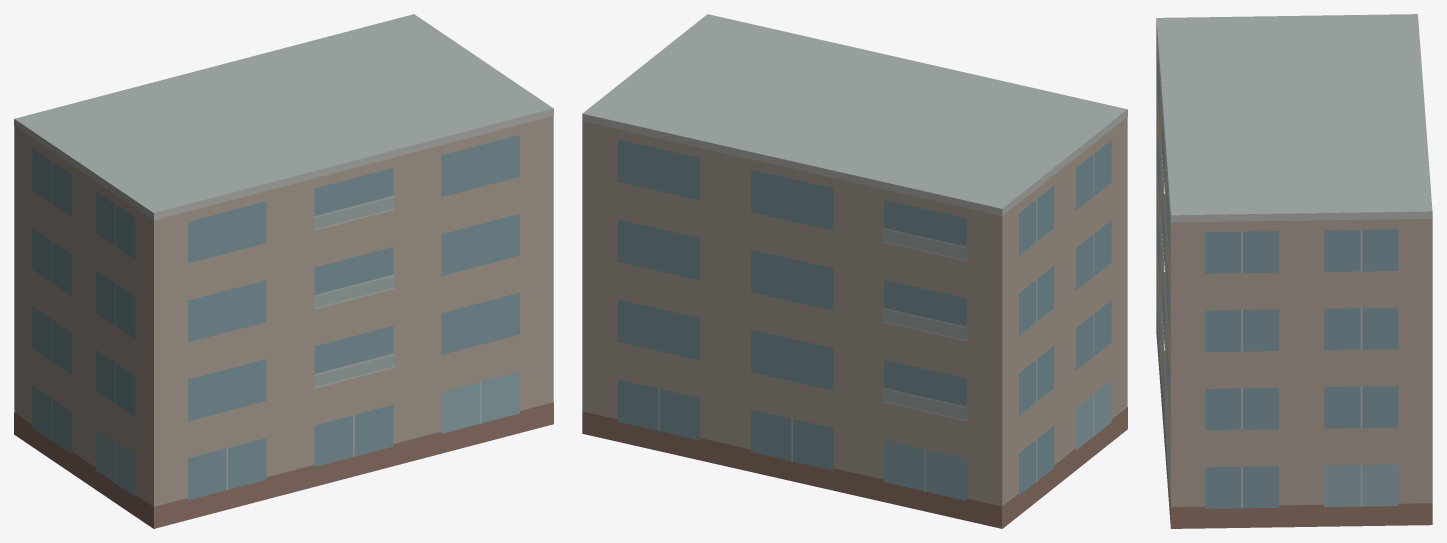
The model's file is survey-upis-32848627.glb.
3 renders of one model, left to right at view 1: azimuth 30°, elevation 25°; view 2: azimuth 150°, elevation 25°; view 3: azimuth 270°, elevation 25°, orthographic. The views are drawn at different scales.
Parts seen in each view (by area): view 1: survey-upis-32848627.tmp; view 2: survey-upis-32848627.tmp; view 3: survey-upis-32848627.tmp.
Boxes of the visible parts, x1,y1,x2,y2 form: survey-upis-32848627.tmp: (14,14,553,528); survey-upis-32848627.tmp: (582,14,1127,528); survey-upis-32848627.tmp: (1156,14,1432,528).
Size of the model in its own units: 14.53 by 10.55 by 8.43.
